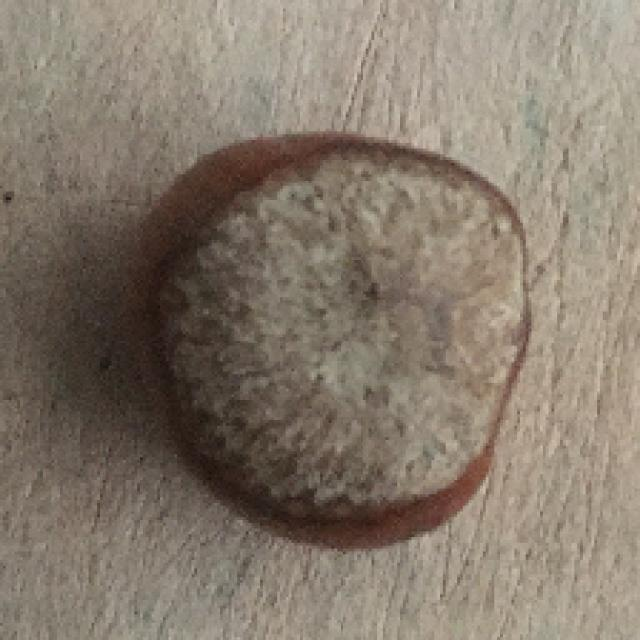QualityHazelnut: (126, 129, 528, 555)
